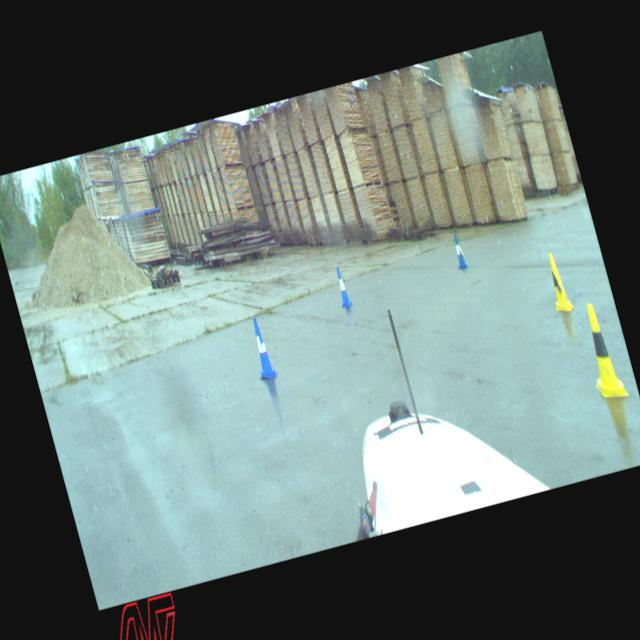blue_cone: (244, 314, 278, 380), (331, 265, 354, 309), (448, 233, 468, 270)
yellow_cone: (574, 299, 628, 403), (541, 250, 574, 313)
